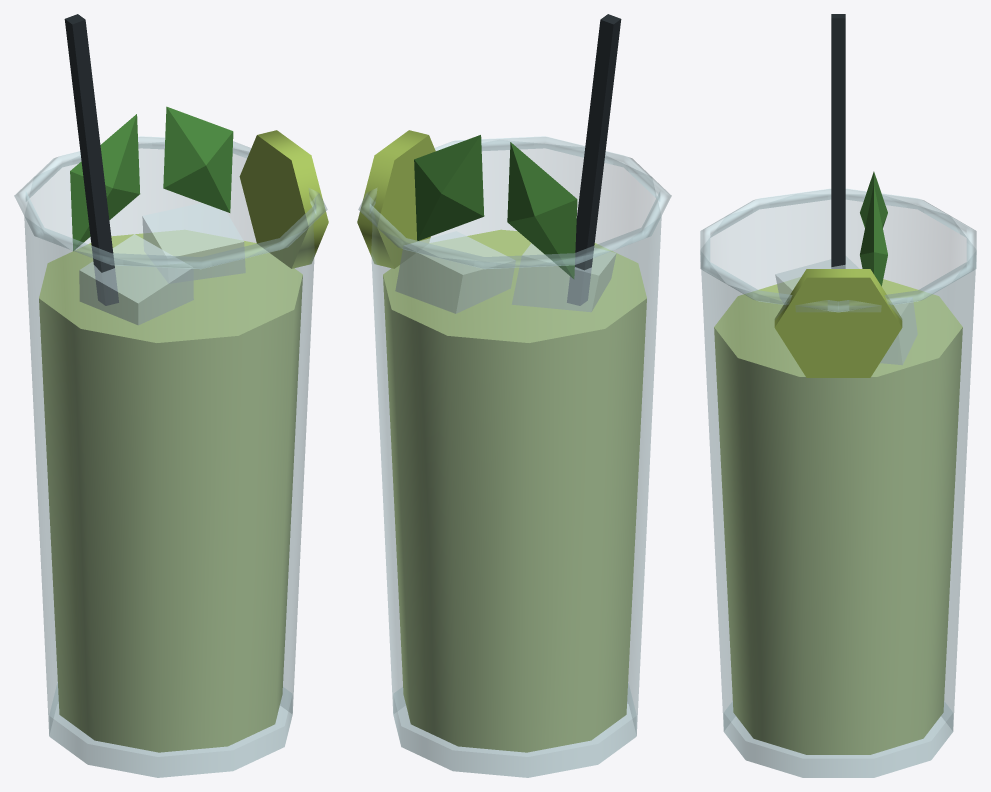
Rendered from mojito.glb.
The picture shows the model from 3 angles, left to right: view 1: azimuth 30°, elevation 25°; view 2: azimuth 150°, elevation 25°; view 3: azimuth 270°, elevation 25°; orthographic projection. The views are drawn at different scales.
Parts seen in each view (by area): view 1: mojito; view 2: mojito; view 3: mojito.
Part boxes in pixels (bbox=[...]): mojito: bbox=[14, 14, 328, 777]; mojito: bbox=[357, 14, 671, 777]; mojito: bbox=[700, 14, 976, 777].
Size of the model in its own units: 0.082 by 0.2096 by 0.078.
